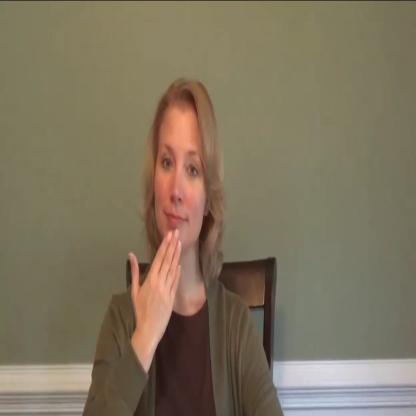ThankYou: (98, 73, 274, 416)
